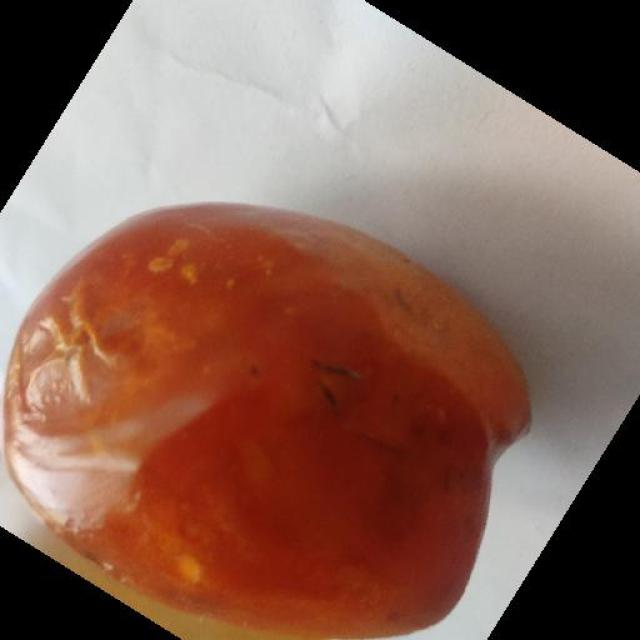Stale_tomato: (0, 198, 529, 633)
